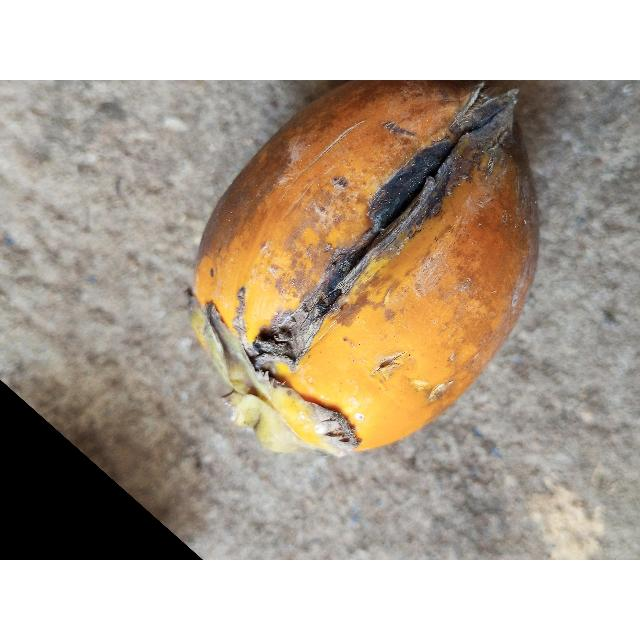damaged: (193, 80, 541, 458)
